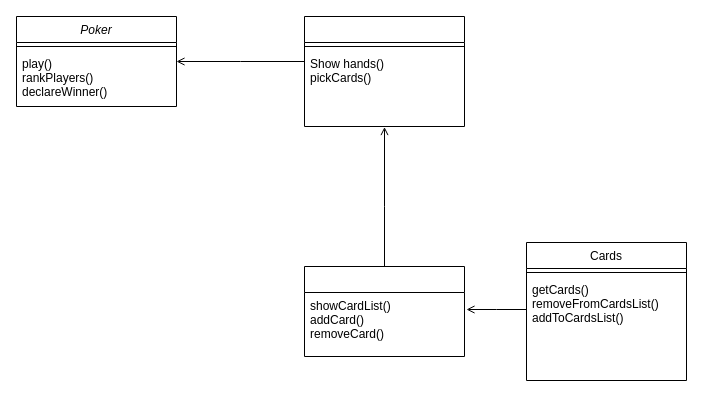
Some shapes in this 703 by 397 pixel diagram are drawn without their labels. The shapes that lost their labels are listed below. From the top down, each one's box as (x1, y1, x2, y2) in pixels, then its label:
(304, 16, 464, 126): Player
(304, 266, 464, 356): Suites
